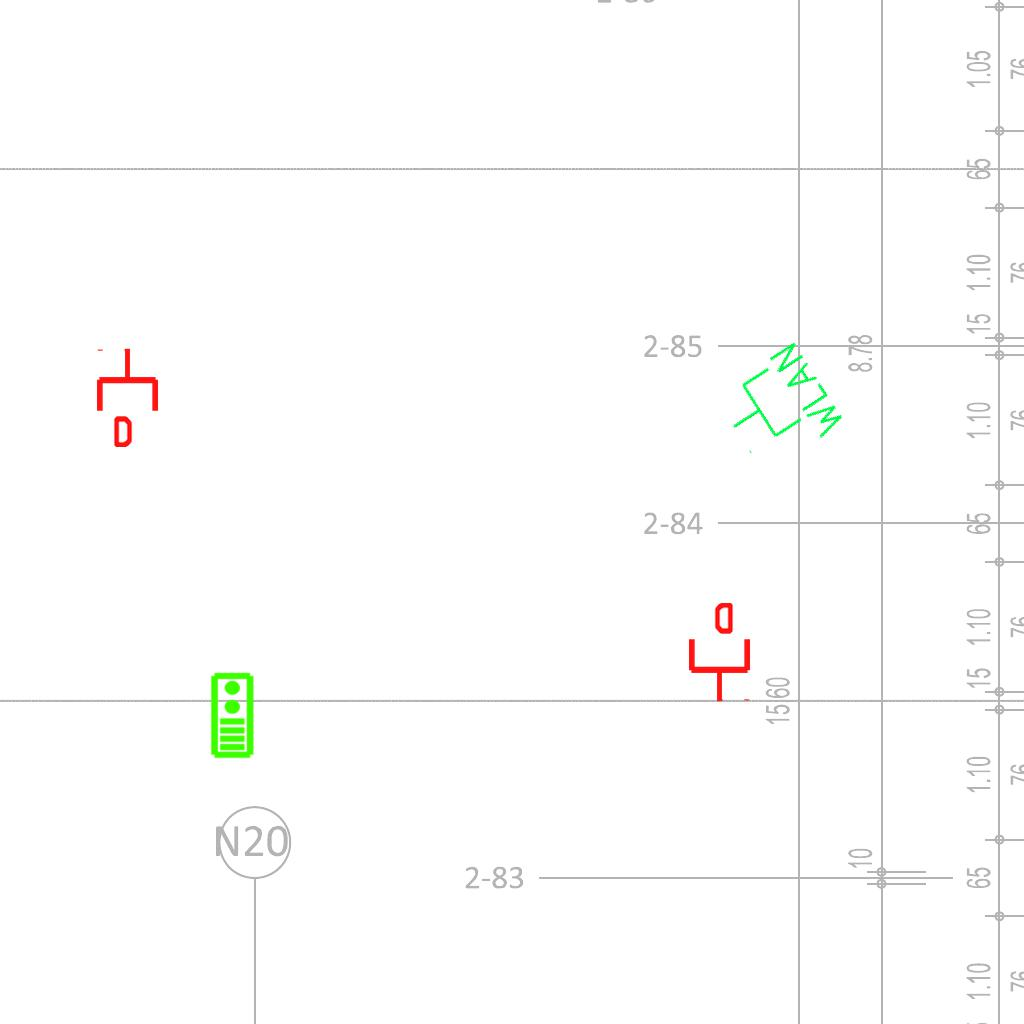Datenanschluss_einfach: (93, 347, 162, 447), (685, 603, 754, 703)
Gegensprechanlage_mit_Video: (208, 671, 255, 759)
WLAN: (707, 336, 853, 481)
